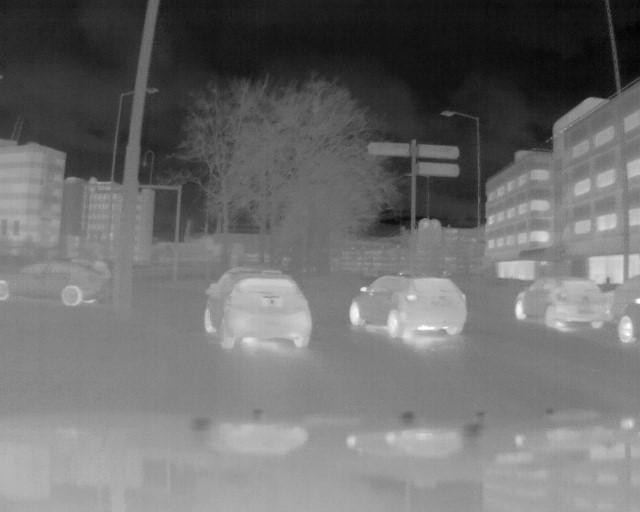car: (203, 278, 313, 355), (350, 274, 466, 347), (3, 256, 112, 312), (515, 273, 606, 335)
